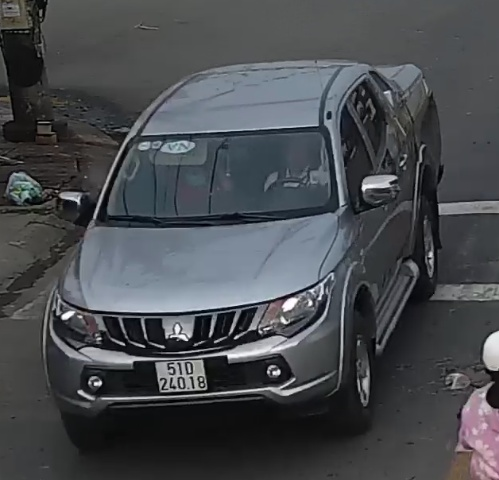vehicle plate: (149, 354, 219, 396)
